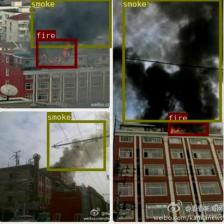fire: (36, 38, 76, 68), (168, 121, 208, 135)
smoke: (122, 0, 221, 121), (30, 0, 111, 48), (46, 120, 106, 170)
